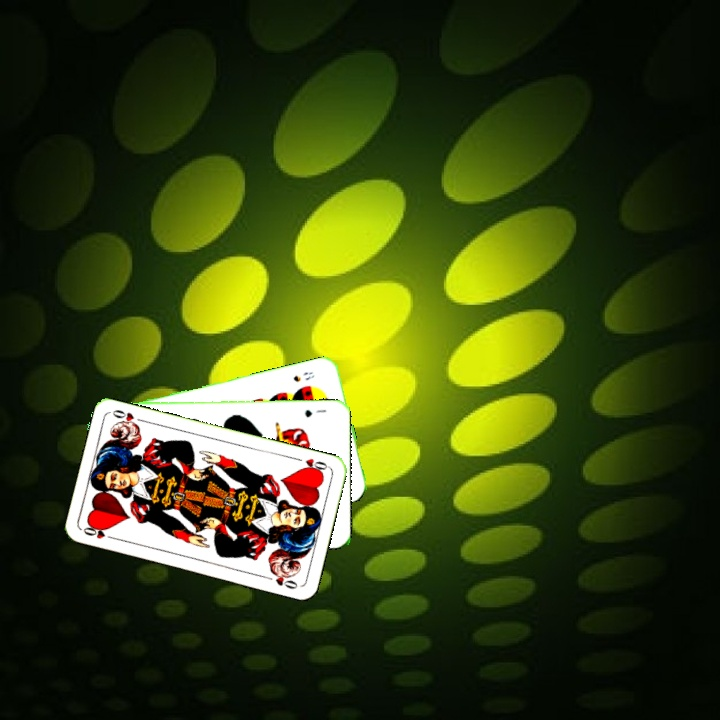GU: (301, 405, 328, 420)
HO: (291, 454, 331, 476), (79, 521, 119, 542)
S8: (289, 368, 317, 384)
